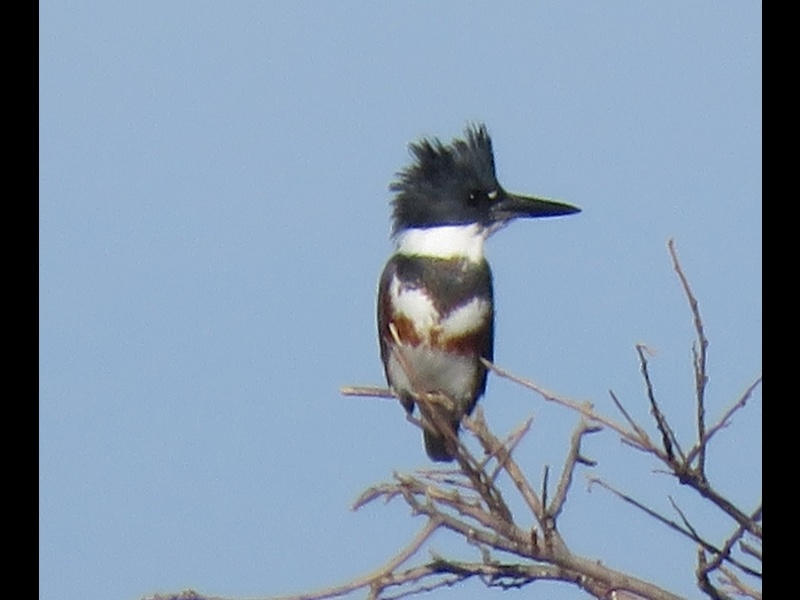kingfisher: (371, 119, 587, 462)
